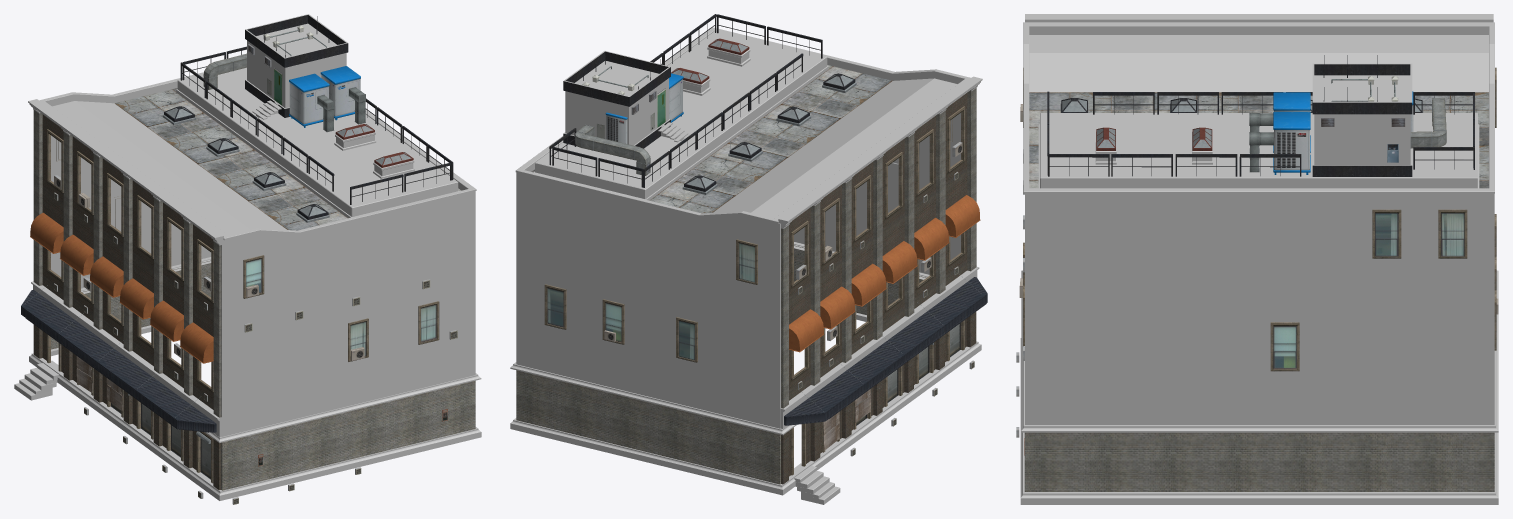
The model's file is u2NEBuild11.gltf.
The picture shows the model from 3 angles, left to right: view 1: azimuth 30°, elevation 25°; view 2: azimuth 150°, elevation 25°; view 3: azimuth 270°, elevation 25°; orthographic projection. The views are drawn at different scales.
Parts seen in each view (by area): view 1: u2NEBuild11; view 2: u2NEBuild11; view 3: u2NEBuild11.
Boxes of the visible parts, left/top/right/bottom form: u2NEBuild11: left=14, top=14, right=481, bottom=504; u2NEBuild11: left=510, top=14, right=987, bottom=504; u2NEBuild11: left=1016, top=14, right=1498, bottom=504.
Size of the model in its own units: 7.62 by 8.43 by 8.79.
